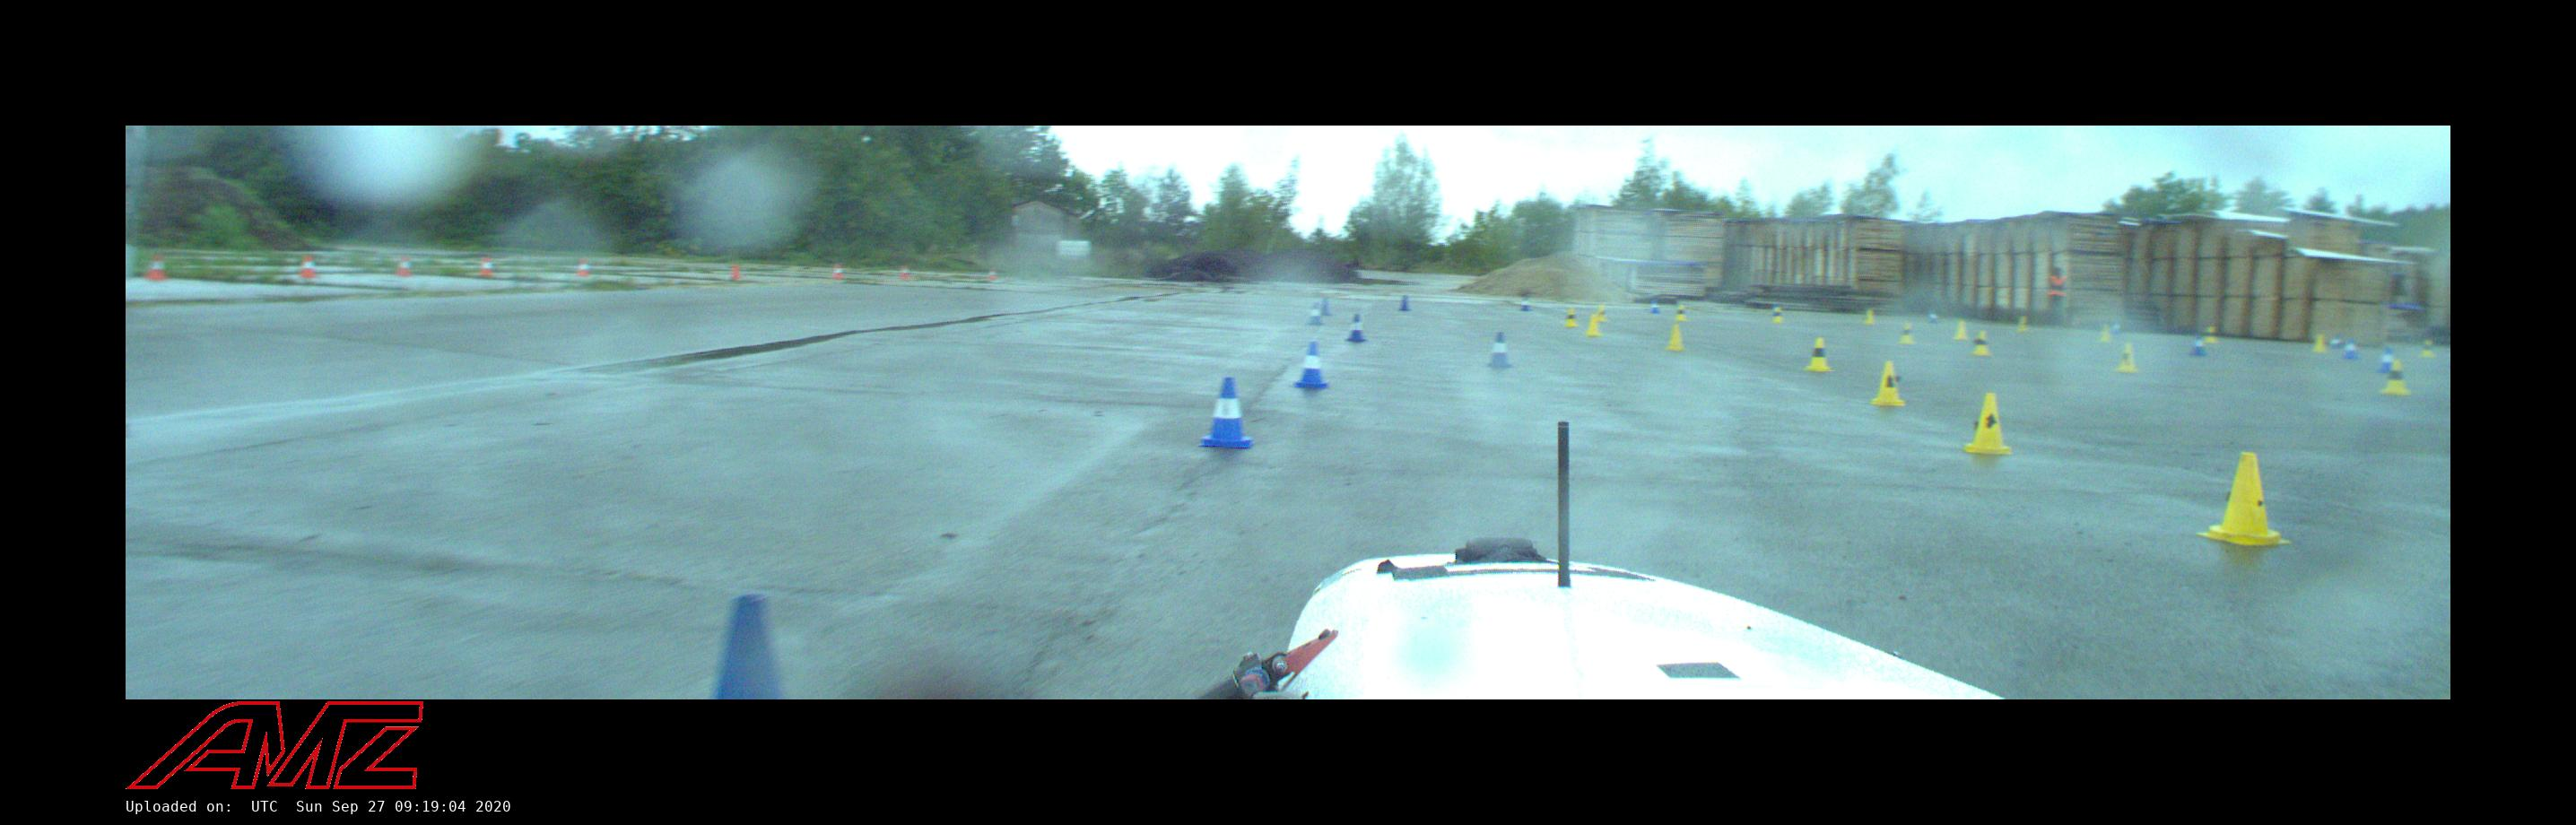blue_cone: (715, 595, 783, 699), (1199, 378, 1256, 448), (1294, 342, 1330, 387), (1486, 334, 1512, 369), (1345, 312, 1367, 343), (2379, 344, 2396, 374), (2187, 334, 2207, 356), (1305, 303, 1325, 326), (2342, 337, 2359, 359), (1317, 294, 1330, 317), (2328, 334, 2344, 350), (1519, 294, 1531, 312), (2109, 317, 2121, 334), (1398, 294, 1410, 311), (1649, 299, 1660, 314), (1929, 310, 1938, 324)
orange_cone: (145, 255, 167, 281), (298, 255, 318, 279), (393, 254, 413, 276), (479, 256, 495, 276), (577, 257, 590, 276), (899, 264, 912, 279), (832, 263, 844, 280), (730, 264, 741, 278), (988, 267, 998, 280)
yellow_cone: (2195, 450, 2291, 547), (1964, 395, 2010, 455), (1871, 363, 1906, 406), (2380, 360, 2410, 394), (1806, 338, 1829, 369), (2117, 344, 2138, 370), (1971, 331, 1991, 356), (1666, 325, 1684, 352), (1898, 321, 1914, 343), (2098, 322, 2112, 343), (2311, 333, 2326, 353), (1585, 316, 1599, 335), (1954, 319, 1968, 339), (2421, 340, 2435, 359), (1562, 308, 1577, 326), (1863, 307, 1876, 325), (2205, 326, 2217, 344), (1771, 307, 1783, 325), (2016, 317, 2029, 334), (1675, 305, 1687, 320), (1597, 305, 1607, 321)
